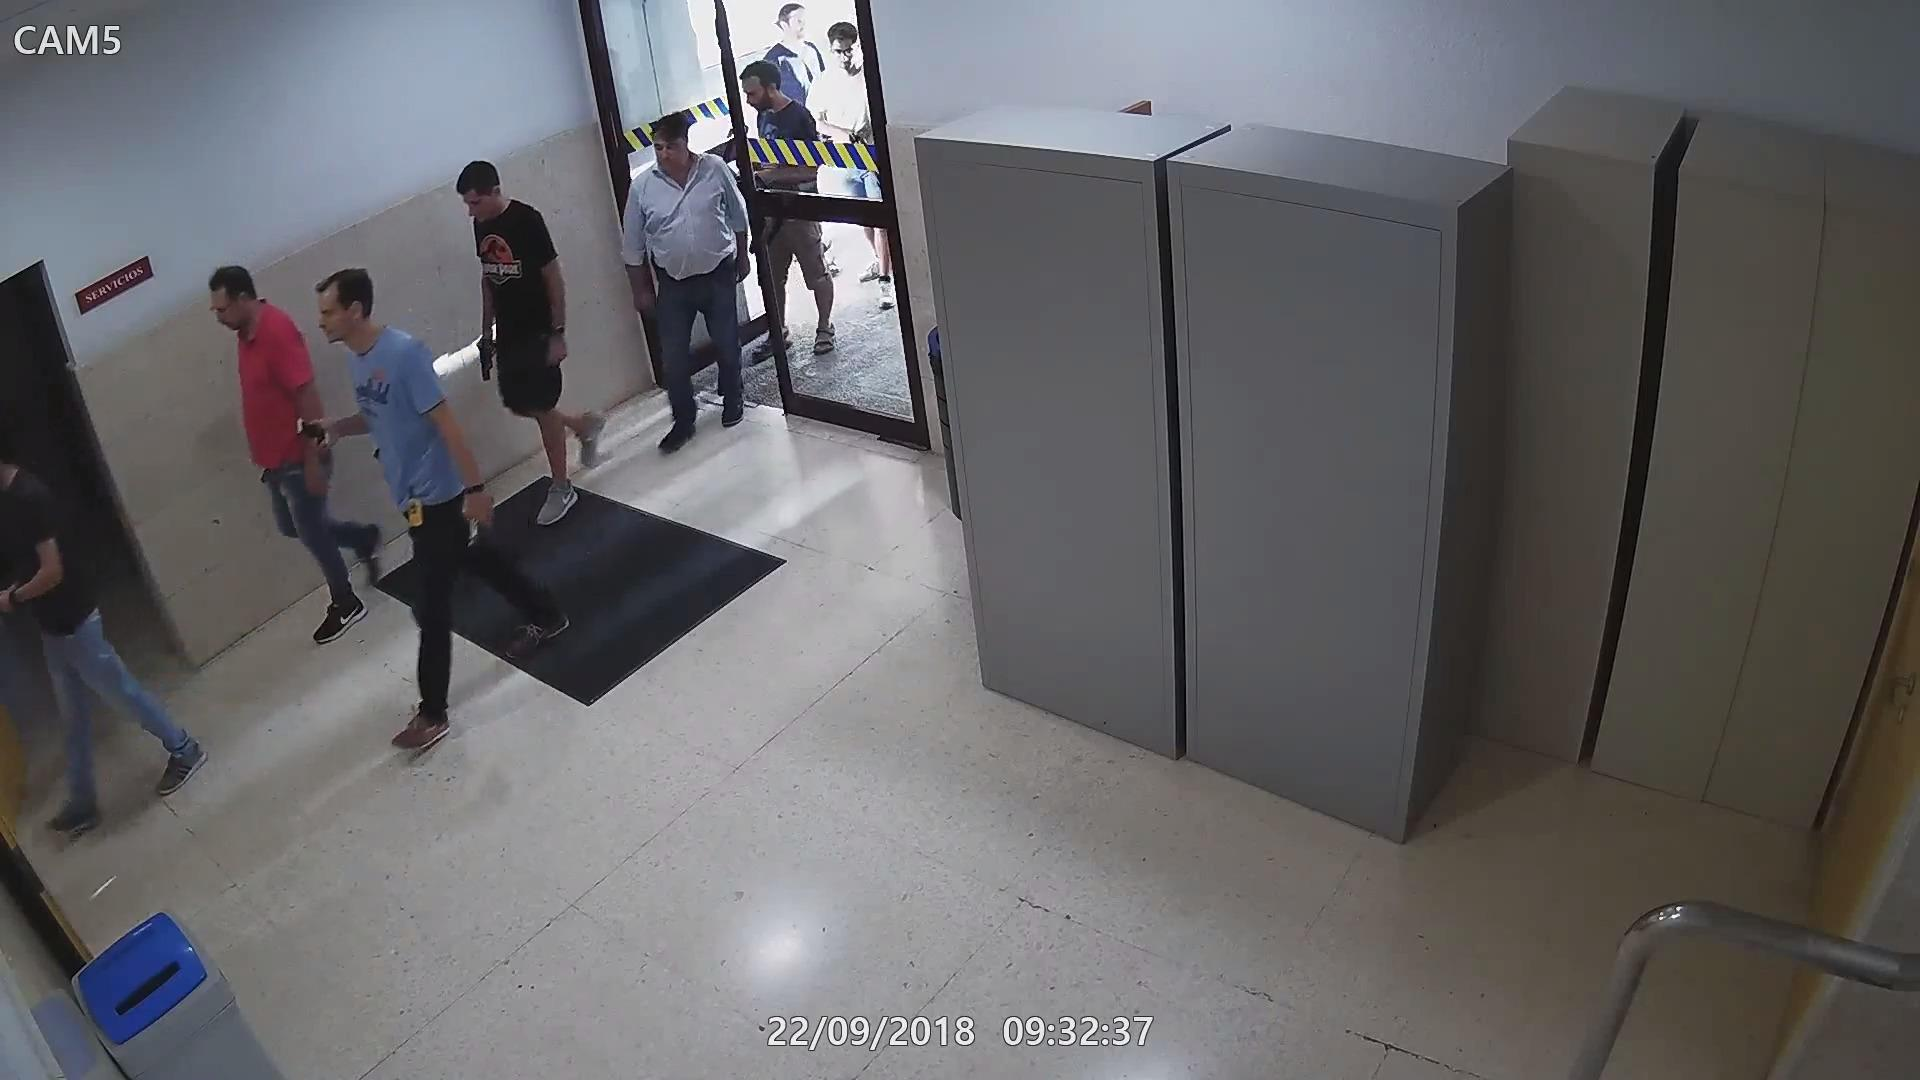Handgun: (458, 489, 501, 549), (472, 324, 498, 377)
